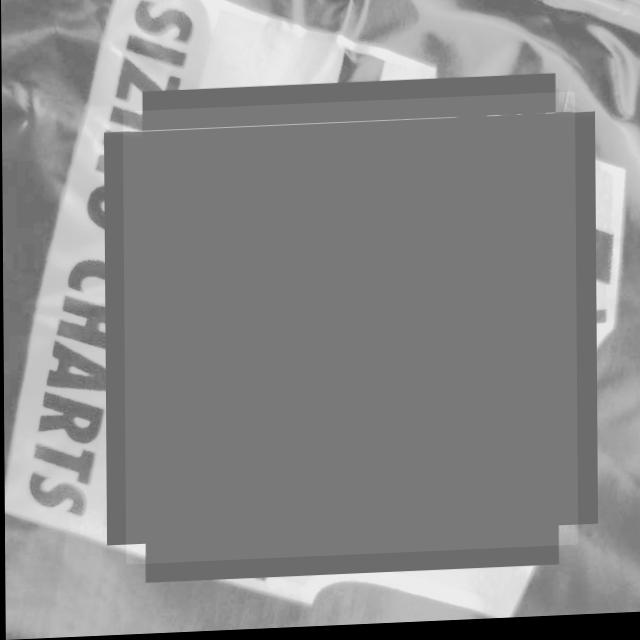qr_code: (122, 97, 576, 566)
